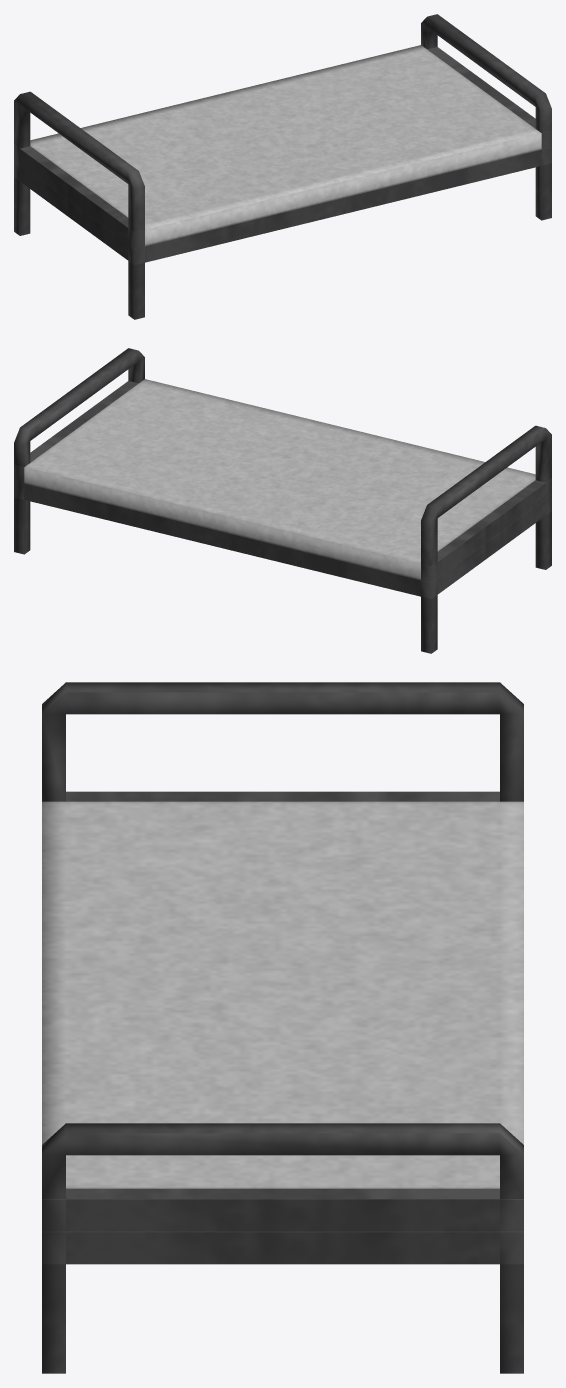
The model's file is Bed.fbx.
The picture shows the model from 3 angles, top to bottom: view 1: azimuth 30°, elevation 25°; view 2: azimuth 150°, elevation 25°; view 3: azimuth 270°, elevation 25°; orthographic projection. The views are drawn at different scales.
Parts seen in each view (by area): view 1: Bed; view 2: Bed; view 3: Bed.
Part boxes in pixels (<box>): Bed: <box>14,14,551,319</box>; Bed: <box>14,348,551,653</box>; Bed: <box>42,682,523,1373</box>.
Size of the model in its own units: 200 by 65 by 100.
1 material, 1 textured.
